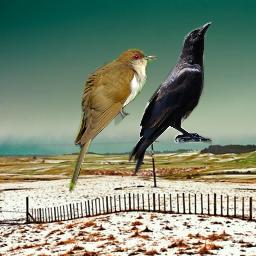Crow: (128, 21, 212, 173)
Cuckoo: (69, 47, 157, 195)
